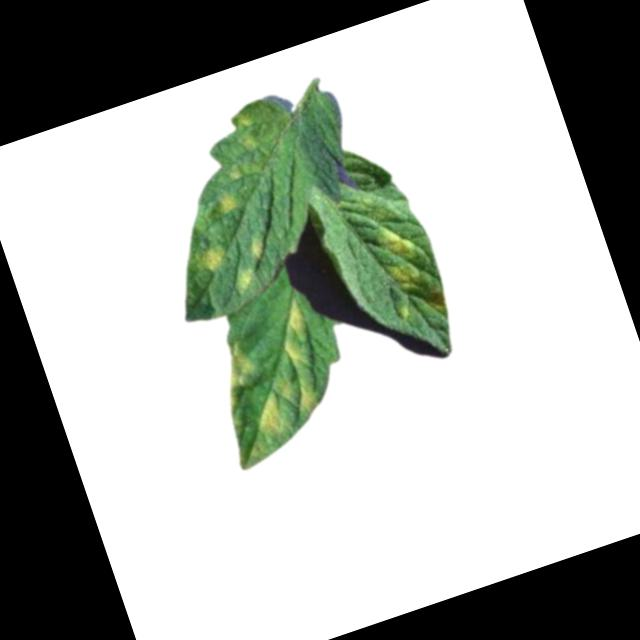Leaf_Mold: (249, 374, 323, 438), (208, 338, 266, 409), (373, 222, 426, 298), (271, 300, 317, 366), (211, 187, 247, 221), (201, 241, 230, 272), (231, 266, 258, 293), (250, 236, 270, 262)
